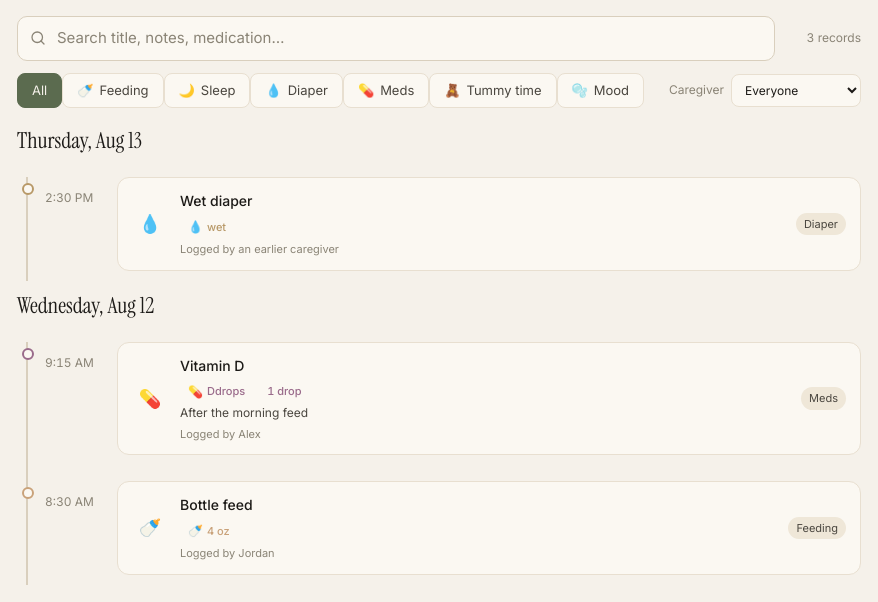
Test: TodayScreen timeline search › searches titles, notes, categories, and structured record details
In the search field named "Search timeline": (409, 38) [55, 26, 763, 50], type "morning"
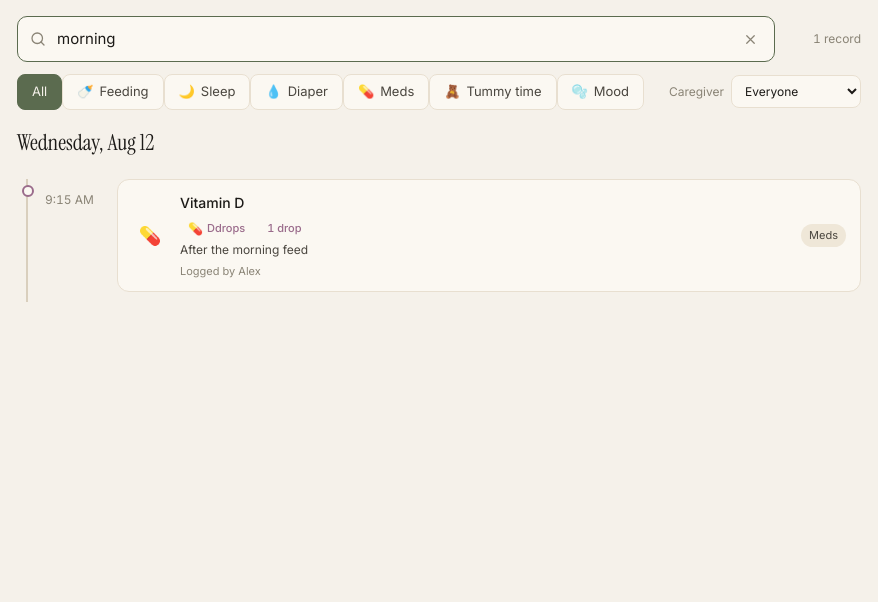
Check: the text "Vitamin D" is shown, box [180, 194, 244, 210]
Check: the button "Wet diaper" is gone
Clear the search field named "Search timeline": (392, 39) [55, 27, 729, 51]
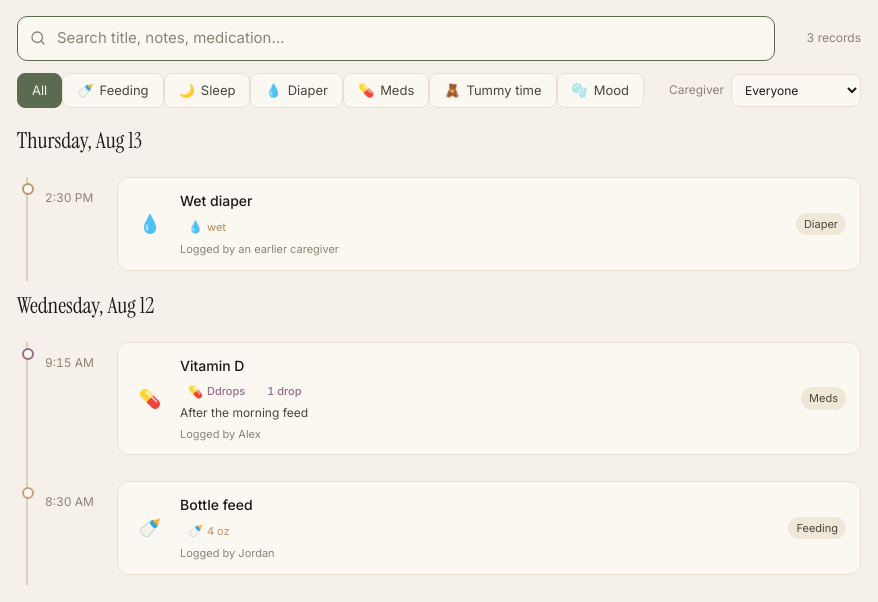
In the search field named "Search timeline": (409, 38) [55, 26, 763, 50], type "4 oz"
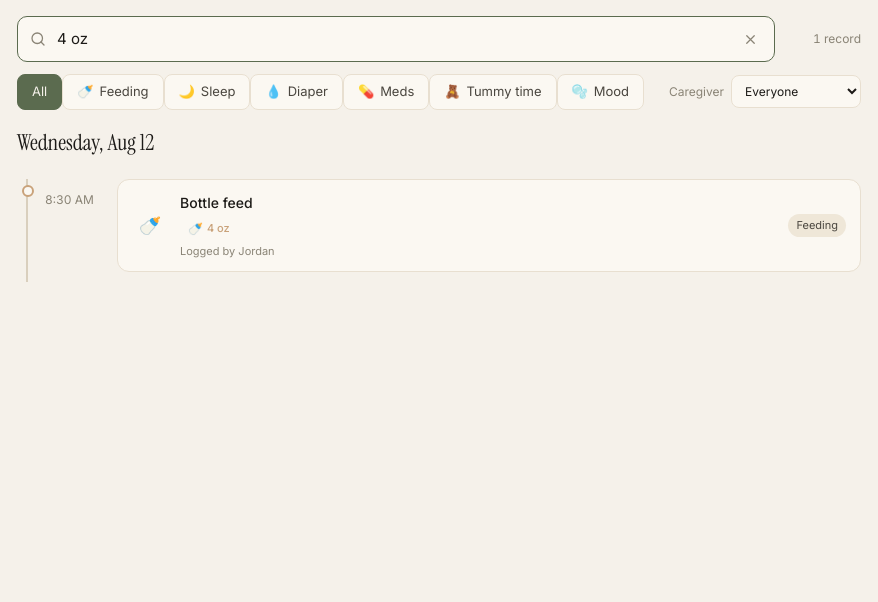
Check: the text "Bottle feed" is shown, box [180, 194, 253, 210]
Clear the search field named "Search timeline": (392, 39) [55, 27, 729, 51]
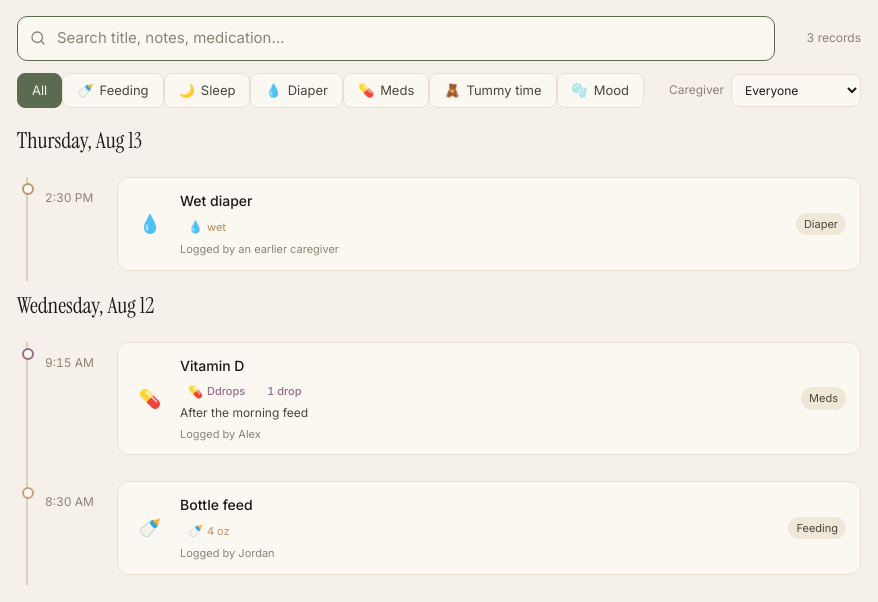
In the search field named "Search timeline": (409, 38) [55, 26, 763, 50], type "meds"
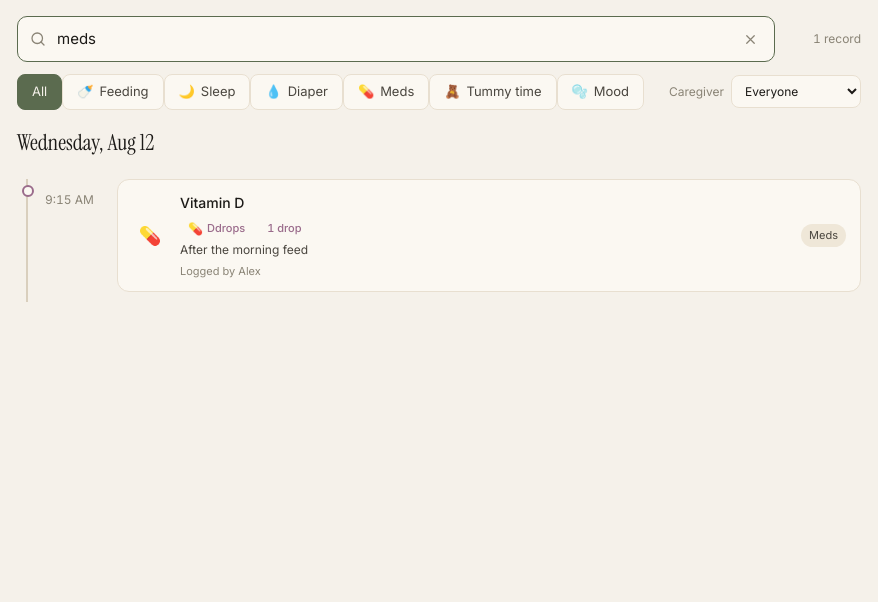
Check: the text "Vitamin D" is shown, box [180, 194, 244, 210]
Check: the message reads "1 record", box [813, 31, 861, 46]
